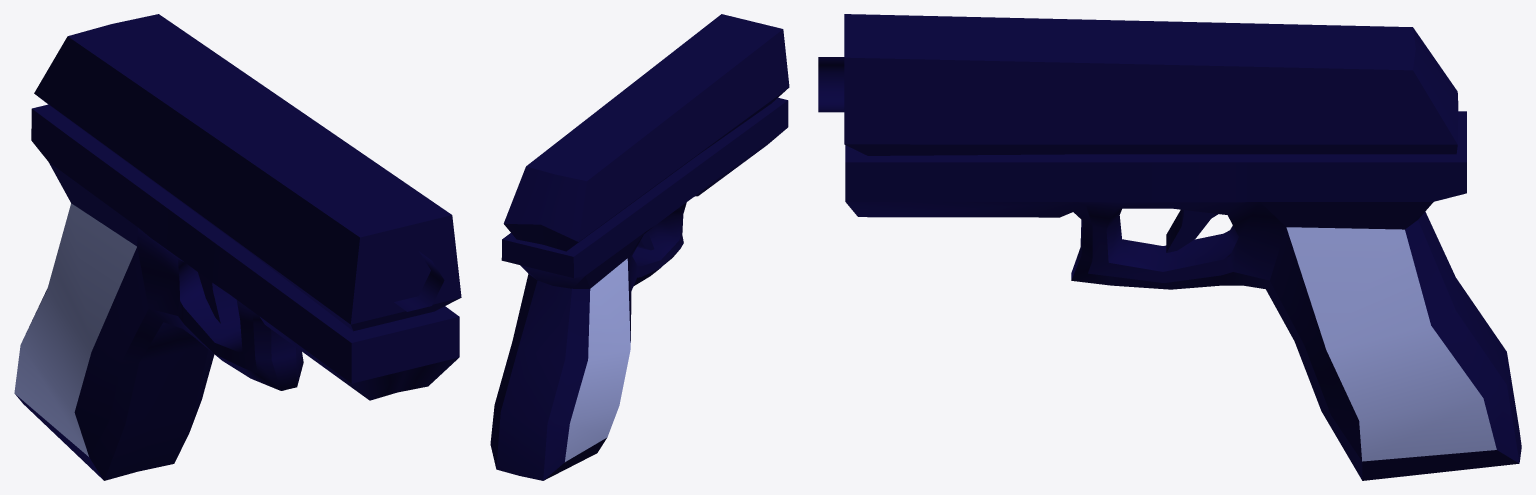
File: Gun.fbx
3 renders of one model, left to right at view 1: azimuth 30°, elevation 25°; view 2: azimuth 150°, elevation 25°; view 3: azimuth 270°, elevation 25°, orthographic. The views are drawn at different scales.
Visible parts, largest first — view 1: Gun; view 2: Gun; view 3: Gun.
Boxes of the visible parts, x1=… form: Gun: x1=14, y1=14, x2=461, y2=480; Gun: x1=490, y1=14, x2=789, y2=480; Gun: x1=818, y1=14, x2=1521, y2=480.
Size of the model in its own units: 7.74 by 24.62 by 36.63.
